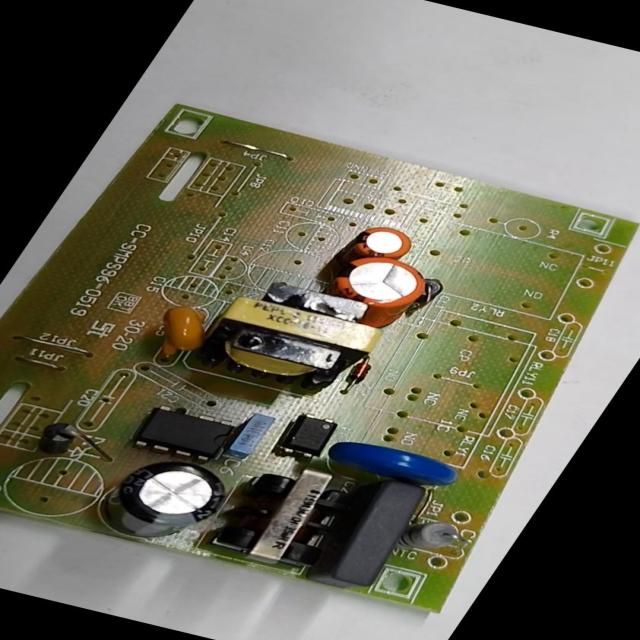Cap1: (326, 250, 436, 314)
Cap2: (338, 220, 421, 268)
Cap3: (96, 455, 238, 551)
MOSFET: (132, 402, 238, 460)
Mov: (326, 434, 468, 486)
Resistor: (400, 519, 464, 554)
Transformer: (190, 276, 397, 401), (208, 460, 363, 570)
